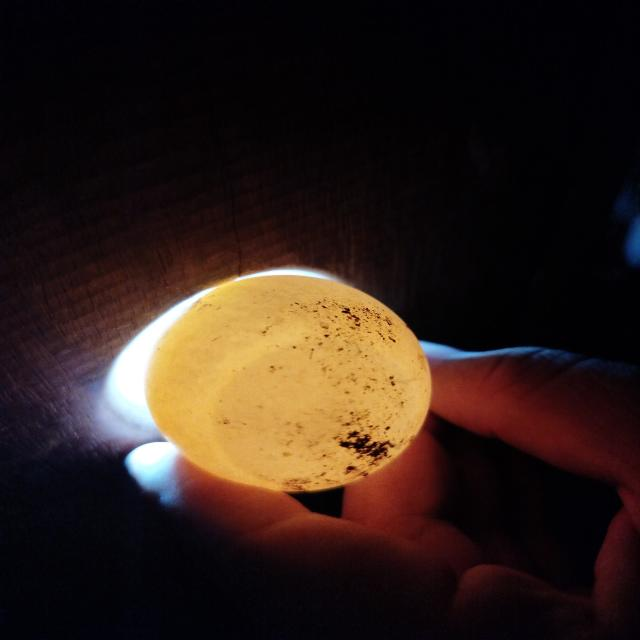Camara de Ar: (216, 349, 350, 483)
